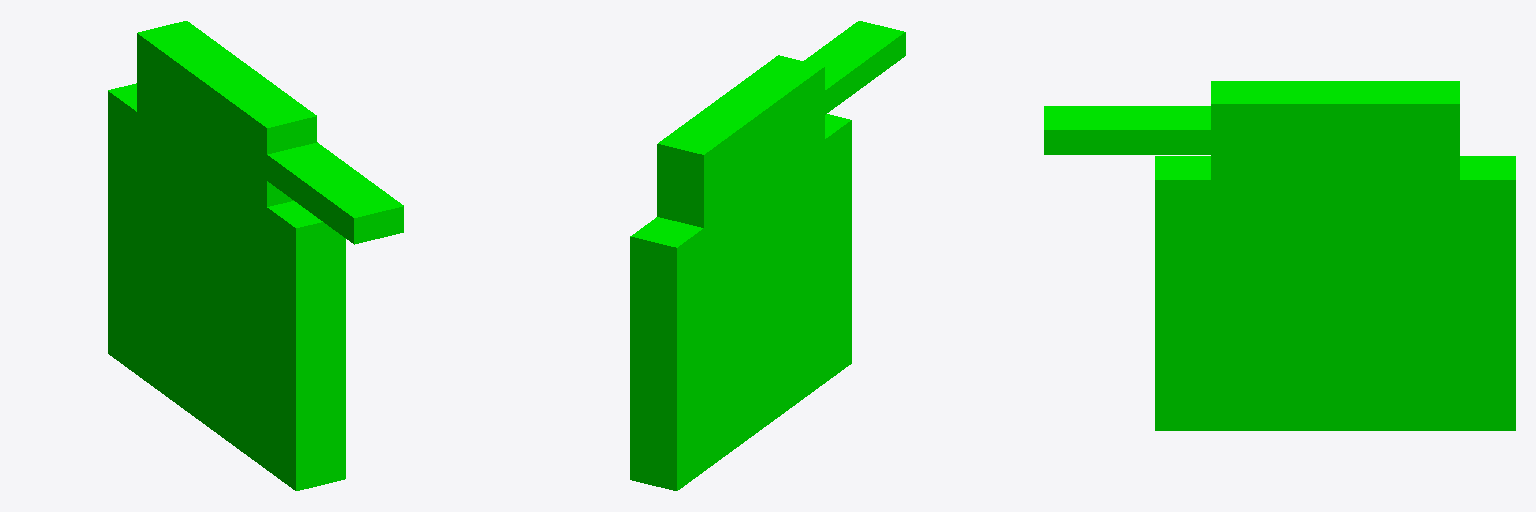
The robot description file, URDF, robot "robot":
<robot name = "robot">
    <link name="root">
        <inertial>
            <origin xyz="0.0 0.0 1.5" rpy="0 0 0"/>
            <mass value="1" />
            <inertia ixx="100" ixy="0" ixz="0" iyy="100" iyz="0" izz="100" />
        </inertial>
        <visual>
            <origin xyz="0.0 0.0 1.5" rpy="0 0 0"/>
            <geometry>
                <box size="0 0 0.0001" />
            </geometry>
            <material name="Green">
                <color rgba="0 1.0 0.0 1.0"/>
            </material>
        </visual>
        <collision>
            <origin xyz="0.0 0.0 1.5" rpy="0 0 0"/>
            <geometry>
                <box size="0 0 0.0001" />
            </geometry>
        </collision>
    </link>
    <joint name="root_000" type="revolute">
       <parent link="root"/>
       <child  link="000"/>
       <origin rpy="0 0 0" xyz="0.0 0.0 1.5" />
     <axis xyz="1 0 0"/>
       <limit effort="0.0" lower="-3.14159" upper="3.14159" velocity="0.0"/>
    </joint>
    <link name="000">
        <inertial>
            <origin xyz="0.0 0.15 0.0" rpy="0 0 0"/>
            <mass value="1" />
            <inertia ixx="100" ixy="0" ixz="0" iyy="100" iyz="0" izz="100" />
        </inertial>
        <visual>
            <origin xyz="0.0 0.15 0.0" rpy="0 0 0"/>
            <geometry>
                <box size="0.2 0.3 0.1" />
            </geometry>
            <material name="Green">
                <color rgba="0 1.0 0.0 1.0"/>
            </material>
        </visual>
        <collision>
            <origin xyz="0.0 0.15 0.0" rpy="0 0 0"/>
            <geometry>
                <box size="0.2 0.3 0.1" />
            </geometry>
        </collision>
    </link>
    <joint name="000_010" type="revolute">
       <parent link="000"/>
       <child  link="010"/>
       <origin rpy="0 0 0" xyz="0.0 0.3 -0.0" />
     <axis xyz="0 1 0"/>
       <limit effort="0.0" lower="-3.14159" upper="3.14159" velocity="0.0"/>
    </joint>
    <link name="010">
        <inertial>
            <origin xyz="0.0 0.15 -0.0" rpy="0 0 0"/>
            <mass value="1" />
            <inertia ixx="100" ixy="0" ixz="0" iyy="100" iyz="0" izz="100" />
        </inertial>
        <visual>
            <origin xyz="0.0 0.15 -0.0" rpy="0 0 0"/>
            <geometry>
                <box size="0.2 0.3 0.1" />
            </geometry>
            <material name="Green">
                <color rgba="0 1.0 0.0 1.0"/>
            </material>
        </visual>
        <collision>
            <origin xyz="0.0 0.15 -0.0" rpy="0 0 0"/>
            <geometry>
                <box size="0.2 0.3 0.1" />
            </geometry>
        </collision>
    </link>
    <joint name="010_010-100" type="revolute">
       <parent link="010"/>
       <child  link="010-100"/>
       <origin rpy="0 0 0" xyz="0.0 0.3 -0.0" />
     <axis xyz="0 1 0"/>
       <limit effort="0.0" lower="-3.14159" upper="3.14159" velocity="0.0"/>
    </joint>
    <link name="010-100">
        <inertial>
            <origin xyz="0.0 0.15 -0.0" rpy="0 0 0"/>
            <mass value="1" />
            <inertia ixx="100" ixy="0" ixz="0" iyy="100" iyz="0" izz="100" />
        </inertial>
        <visual>
            <origin xyz="0.0 0.15 -0.0" rpy="0 0 0"/>
            <geometry>
                <box size="0.2 0.3 0.3" />
            </geometry>
            <material name="Green">
                <color rgba="0 1.0 0.0 1.0"/>
            </material>
        </visual>
        <collision>
            <origin xyz="0.0 0.15 -0.0" rpy="0 0 0"/>
            <geometry>
                <box size="0.2 0.3 0.3" />
            </geometry>
        </collision>
    </link>
    <joint name="010-100_010-110" type="revolute">
       <parent link="010-100"/>
       <child  link="010-110"/>
       <origin rpy="0 0 0" xyz="0.0 0.3 -0.0" />
     <axis xyz="0 1 0"/>
       <limit effort="0.0" lower="-3.14159" upper="3.14159" velocity="0.0"/>
    </joint>
    <link name="010-110">
        <inertial>
            <origin xyz="0.0 0.15 -0.0" rpy="0 0 0"/>
            <mass value="1" />
            <inertia ixx="100" ixy="0" ixz="0" iyy="100" iyz="0" izz="100" />
        </inertial>
        <visual>
            <origin xyz="0.0 0.15 -0.0" rpy="0 0 0"/>
            <geometry>
                <box size="0.2 0.3 0.3" />
            </geometry>
            <material name="Green">
                <color rgba="0 1.0 0.0 1.0"/>
            </material>
        </visual>
        <collision>
            <origin xyz="0.0 0.15 -0.0" rpy="0 0 0"/>
            <geometry>
                <box size="0.2 0.3 0.3" />
            </geometry>
        </collision>
    </link>
    <joint name="010-110_010-120" type="revolute">
       <parent link="010-110"/>
       <child  link="010-120"/>
       <origin rpy="0 0 0" xyz="0.0 0.3 -0.0" />
     <axis xyz="0 1 0"/>
       <limit effort="0.0" lower="-3.14159" upper="3.14159" velocity="0.0"/>
    </joint>
    <link name="010-120">
        <inertial>
            <origin xyz="0.0 0.15 -0.0" rpy="0 0 0"/>
            <mass value="1" />
            <inertia ixx="100" ixy="0" ixz="0" iyy="100" iyz="0" izz="100" />
        </inertial>
        <visual>
            <origin xyz="0.0 0.15 -0.0" rpy="0 0 0"/>
            <geometry>
                <box size="0.2 0.3 0.3" />
            </geometry>
            <material name="Green">
                <color rgba="0 1.0 0.0 1.0"/>
            </material>
        </visual>
        <collision>
            <origin xyz="0.0 0.15 -0.0" rpy="0 0 0"/>
            <geometry>
                <box size="0.2 0.3 0.3" />
            </geometry>
        </collision>
    </link>
    <joint name="010-120_010-120-200" type="revolute">
       <parent link="010-120"/>
       <child  link="010-120-200"/>
       <origin rpy="0 0 0" xyz="0.0 0.15 -0.15" />
     <axis xyz="0 0 1"/>
       <limit effort="0.0" lower="-3.14159" upper="3.14159" velocity="0.0"/>
    </joint>
    <link name="010-120-200">
        <inertial>
            <origin xyz="0.0 0.0 -0.25" rpy="0 0 0"/>
            <mass value="1" />
            <inertia ixx="100" ixy="0" ixz="0" iyy="100" iyz="0" izz="100" />
        </inertial>
        <visual>
            <origin xyz="0.0 0.0 -0.25" rpy="0 0 0"/>
            <geometry>
                <box size="0.2 0.7 0.5" />
            </geometry>
            <material name="Green">
                <color rgba="0 1.0 0.0 1.0"/>
            </material>
        </visual>
        <collision>
            <origin xyz="0.0 0.0 -0.25" rpy="0 0 0"/>
            <geometry>
                <box size="0.2 0.7 0.5" />
            </geometry>
        </collision>
    </link>
    <joint name="010-120-200_010-120-210" type="revolute">
       <parent link="010-120-200"/>
       <child  link="010-120-210"/>
       <origin rpy="0 0 0" xyz="0.0 0.0 -0.5" />
     <axis xyz="0 0 1"/>
       <limit effort="0.0" lower="-3.14159" upper="3.14159" velocity="0.0"/>
    </joint>
    <link name="010-120-210">
        <inertial>
            <origin xyz="0.0 0.0 -0.25" rpy="0 0 0"/>
            <mass value="1" />
            <inertia ixx="100" ixy="0" ixz="0" iyy="100" iyz="0" izz="100" />
        </inertial>
        <visual>
            <origin xyz="0.0 0.0 -0.25" rpy="0 0 0"/>
            <geometry>
                <box size="0.2 0.7 0.5" />
            </geometry>
            <material name="Green">
                <color rgba="0 1.0 0.0 1.0"/>
            </material>
        </visual>
        <collision>
            <origin xyz="0.0 0.0 -0.25" rpy="0 0 0"/>
            <geometry>
                <box size="0.2 0.7 0.5" />
            </geometry>
        </collision>
    </link>
    <joint name="010-100_010-100-200" type="revolute">
       <parent link="010-100"/>
       <child  link="010-100-200"/>
       <origin rpy="0 0 0" xyz="0.0 0.15 -0.15" />
     <axis xyz="0 0 1"/>
       <limit effort="0.0" lower="-3.14159" upper="3.14159" velocity="0.0"/>
    </joint>
    <link name="010-100-200">
        <inertial>
            <origin xyz="0.0 0.0 -0.25" rpy="0 0 0"/>
            <mass value="1" />
            <inertia ixx="100" ixy="0" ixz="0" iyy="100" iyz="0" izz="100" />
        </inertial>
        <visual>
            <origin xyz="0.0 0.0 -0.25" rpy="0 0 0"/>
            <geometry>
                <box size="0.2 0.7 0.5" />
            </geometry>
            <material name="Green">
                <color rgba="0 1.0 0.0 1.0"/>
            </material>
        </visual>
        <collision>
            <origin xyz="0.0 0.0 -0.25" rpy="0 0 0"/>
            <geometry>
                <box size="0.2 0.7 0.5" />
            </geometry>
        </collision>
    </link>
    <joint name="010-100-200_010-100-210" type="revolute">
       <parent link="010-100-200"/>
       <child  link="010-100-210"/>
       <origin rpy="0 0 0" xyz="0.0 0.0 -0.5" />
     <axis xyz="0 0 1"/>
       <limit effort="0.0" lower="-3.14159" upper="3.14159" velocity="0.0"/>
    </joint>
    <link name="010-100-210">
        <inertial>
            <origin xyz="0.0 0.0 -0.25" rpy="0 0 0"/>
            <mass value="1" />
            <inertia ixx="100" ixy="0" ixz="0" iyy="100" iyz="0" izz="100" />
        </inertial>
        <visual>
            <origin xyz="0.0 0.0 -0.25" rpy="0 0 0"/>
            <geometry>
                <box size="0.2 0.7 0.5" />
            </geometry>
            <material name="Green">
                <color rgba="0 1.0 0.0 1.0"/>
            </material>
        </visual>
        <collision>
            <origin xyz="0.0 0.0 -0.25" rpy="0 0 0"/>
            <geometry>
                <box size="0.2 0.7 0.5" />
            </geometry>
        </collision>
    </link>
</robot>

--- What the picture shows (computed from the rendered views, not written in the file) ---
The picture shows the robot from 3 angles, left to right: view 1: azimuth 30°, elevation 25°; view 2: azimuth 150°, elevation 25°; view 3: azimuth 270°, elevation 25°; orthographic projection.
Robot: robot — 10 links, 9 joints (9 revolute); root link root; default pose: every joint at zero.
Visible links, largest first — view 1: [phone redacted] (×4), 010-100, 010-110, 010-120, 000, 010; view 2: [phone redacted] (×4), 010-120, 010-110, 010-100, 000, 010; view 3: [phone redacted] (×4), 010-100, 010-110, 010-120, 000, 010.
Boxes of the visible links, <box> form: [phone redacted] (×4): <box>108,83,345,490</box>; 010-100: <box>224,84,316,206</box>; 010-110: <box>180,52,272,174</box>; 010-120: <box>137,21,229,142</box>; 000: <box>311,174,403,244</box>; 010: <box>267,142,359,212</box>; [phone redacted] (×4): <box>630,114,851,490</box>; 010-120: <box>657,114,743,227</box>; 010-110: <box>699,85,784,197</box>; 010-100: <box>738,55,824,167</box>; 000: <box>819,21,905,85</box>; 010: <box>804,50,864,114</box>; [phone redacted] (×4): <box>1155,156,1515,430</box>; 010-100: <box>1211,81,1293,179</box>; 010-110: <box>1294,81,1376,179</box>; 010-120: <box>1377,81,1459,179</box>; 000: <box>1044,106,1127,154</box>; 010: <box>1128,106,1210,154</box>.
Size in the robot's own frame: 0.2 by 1.7 by 1.3 metres.
Geometry: primitives only (box / cylinder / sphere), no mesh files.
